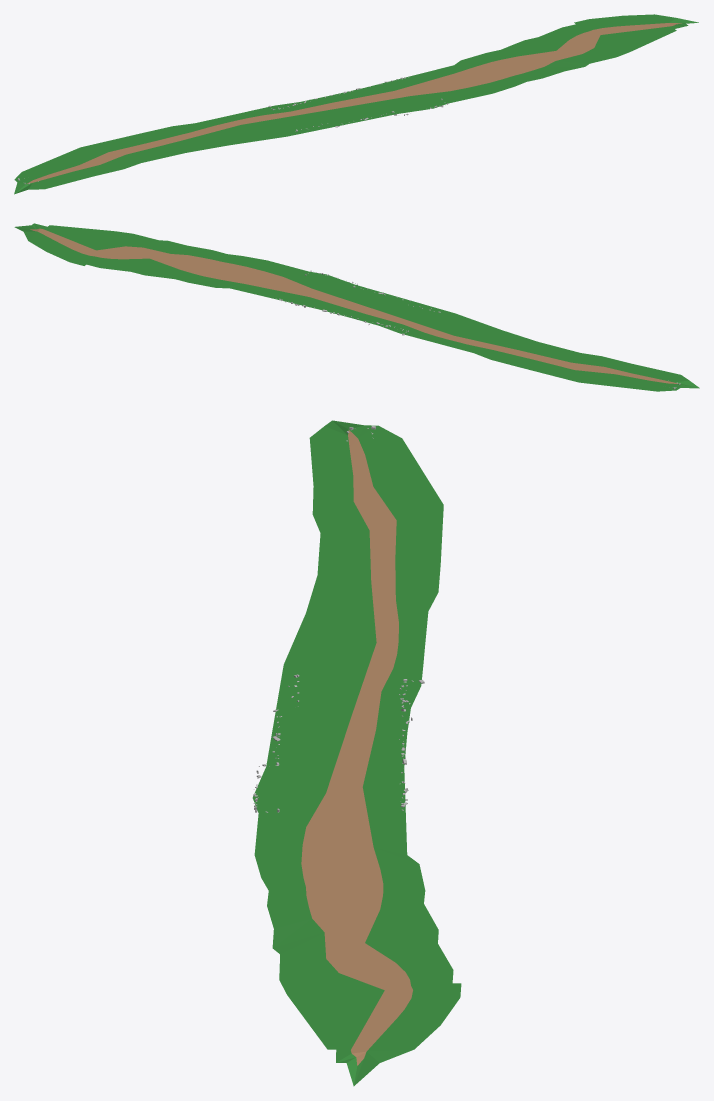
The model's file is 0.landscape.init.fbx.
The picture shows the model from 3 angles, top to bottom: view 1: azimuth 30°, elevation 25°; view 2: azimuth 150°, elevation 25°; view 3: azimuth 270°, elevation 25°; orthographic projection. The views are drawn at different scales.
Visible parts, largest first — view 1: inner_grass, dirt; view 2: inner_grass, dirt; view 3: inner_grass, dirt.
Part boxes in pixels (<box>): inner_grass: <box>14,14,698,194</box>; dirt: <box>27,23,681,183</box>; inner_grass: <box>14,223,699,391</box>; dirt: <box>30,228,678,383</box>; inner_grass: <box>252,420,461,1086</box>; dirt: <box>301,430,412,1065</box>.
Bounding box in the file's own units: 2073 × 16.76 × 275.
